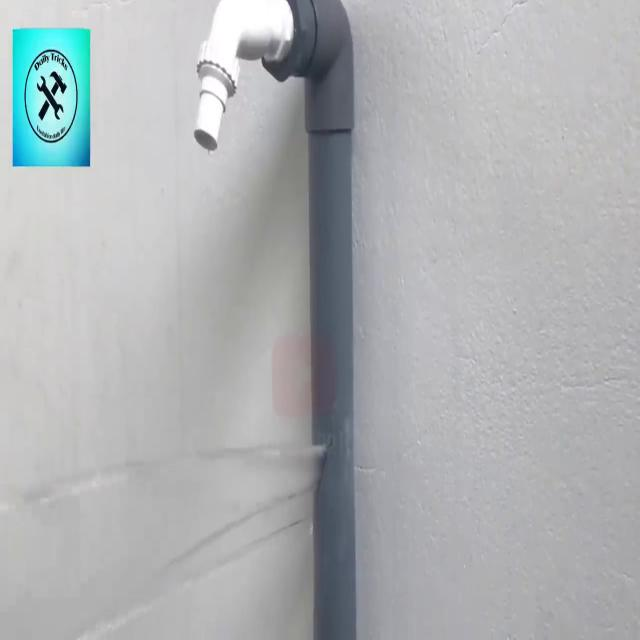leak: (0, 442, 333, 640)
